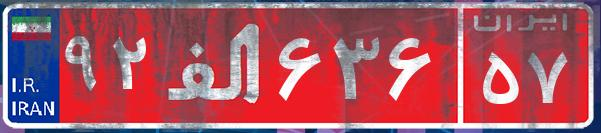2: (110, 28, 158, 105)
3: (330, 28, 385, 110)
5: (475, 38, 525, 113)
6: (385, 28, 445, 110), (273, 28, 330, 110)
7: (525, 38, 570, 115)
9: (57, 26, 110, 107)
الف: (158, 15, 273, 115)
